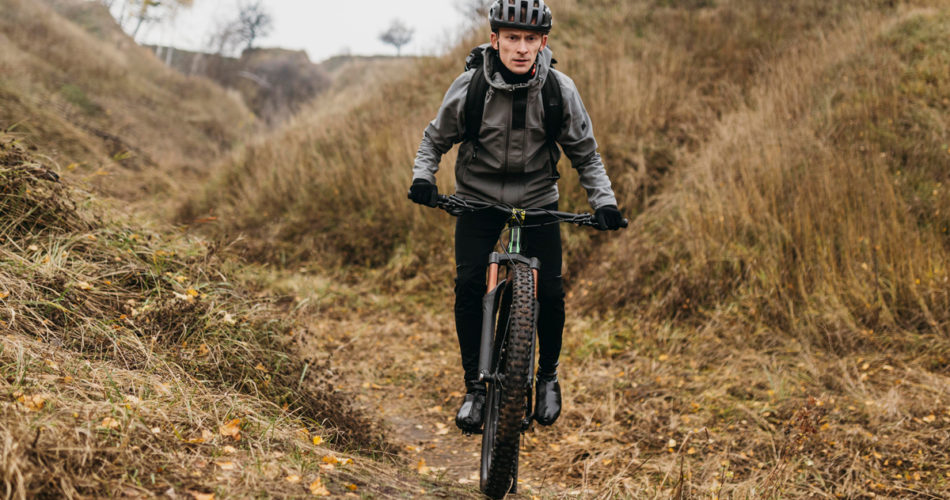commuter: (404, 1, 630, 498)
